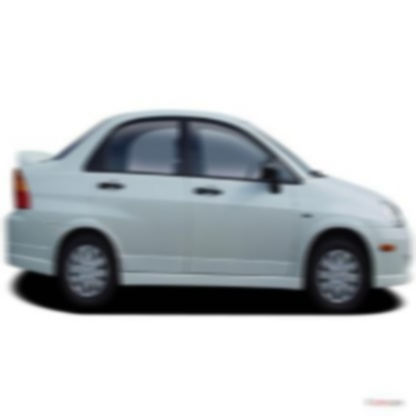Vehicle: (5, 105, 413, 309)
